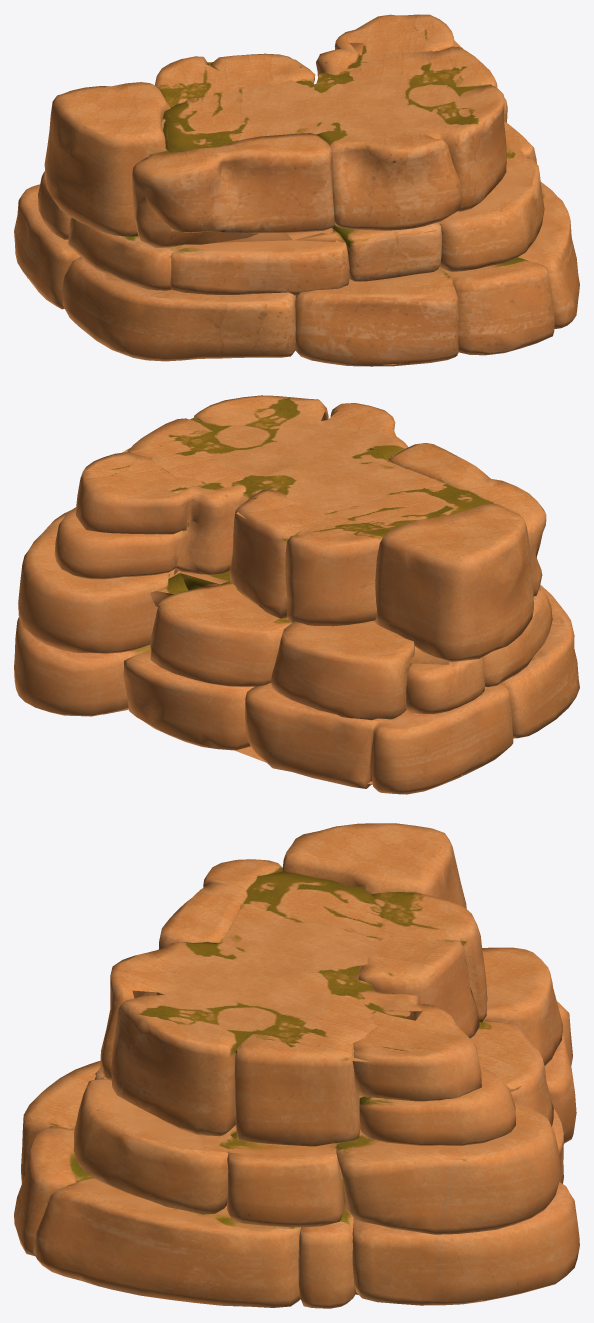
File: eroded-cliff.glb
3 renders of one model, top to bottom at view 1: azimuth 30°, elevation 25°; view 2: azimuth 150°, elevation 25°; view 3: azimuth 270°, elevation 25°, orthographic. The views are drawn at different scales.
Parts seen in each view (by area): view 1: eroded-cliff_LOD0; view 2: eroded-cliff_LOD0; view 3: eroded-cliff_LOD0.
Boxes of the visible parts, x1,y1,x2,y2 form: eroded-cliff_LOD0: (14,14,579,366); eroded-cliff_LOD0: (14,395,579,794); eroded-cliff_LOD0: (14,823,579,1308).
Size of what is drawn, in the model's own units: 1 by 0.4287 by 0.9202.
1 material, 1 textured.
